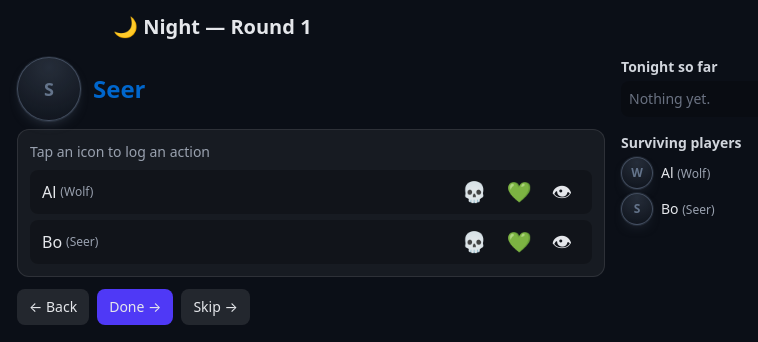
Test: Night › can go back to the previous role during the night
Expected: the heading "Seer" is shown, [93,73,146,105]
Click the button "← Back".
click(53, 307)  # box [17,289,89,325]
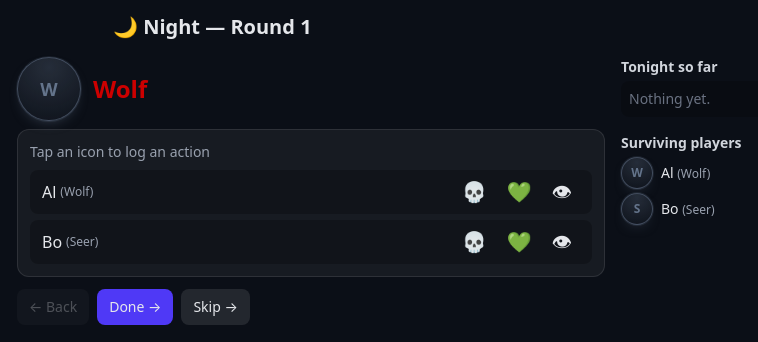
Expected: the heading "Wolf" is shown, [93,73,147,105]
